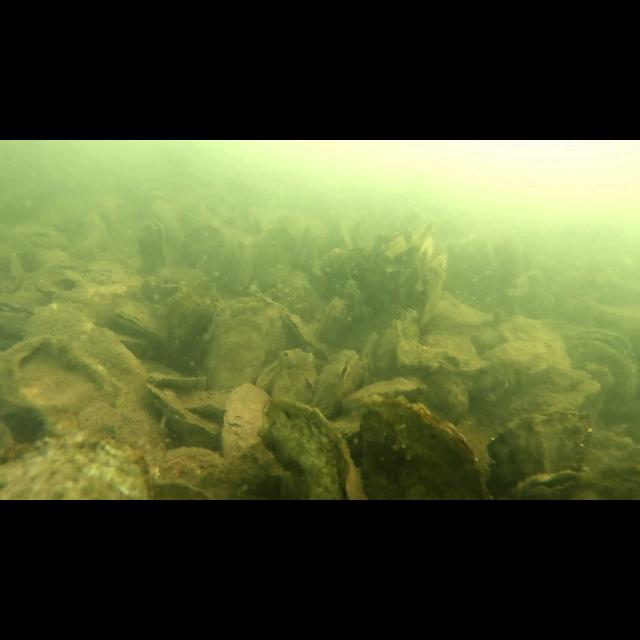Oyster-Closed: (360, 394, 490, 500), (22, 302, 146, 396), (0, 427, 152, 500), (259, 396, 365, 499), (0, 334, 120, 422), (486, 410, 590, 500), (205, 296, 291, 392), (162, 276, 220, 354), (144, 381, 220, 437), (476, 339, 554, 393), (219, 383, 271, 462), (257, 348, 319, 408), (430, 291, 492, 337), (341, 376, 425, 408), (316, 296, 346, 342), (342, 278, 368, 326)
Oyster-Open: (409, 232, 447, 334), (312, 348, 362, 418), (376, 307, 418, 371), (508, 468, 588, 499), (136, 217, 168, 275), (288, 313, 328, 357), (111, 306, 161, 334)
